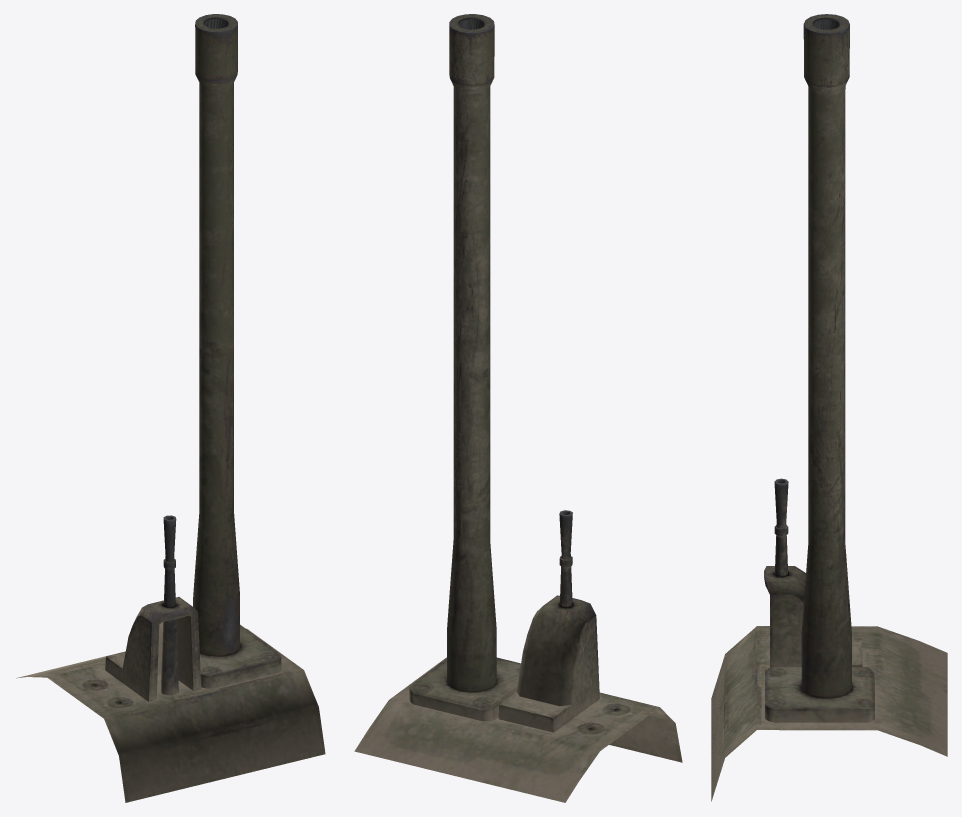
File: Gun_01.glb
3 views of the same model, side by side, from view 1: azimuth 30°, elevation 25°; view 2: azimuth 150°, elevation 25°; view 3: azimuth 270°, elevation 25° (orthographic). The views are drawn at different scales.
Visible parts, largest first — view 1: set_0_group_0; view 2: set_0_group_0; view 3: set_0_group_0.
Boxes of the visible parts, box(x1,y1,x2,y2) form: set_0_group_0: box(16, 14, 325, 802); set_0_group_0: box(354, 14, 682, 802); set_0_group_0: box(711, 14, 947, 801).
Bounding box in the file's own units: 0.5352 × 1.8 × 0.5146.
1 material, 1 textured.
